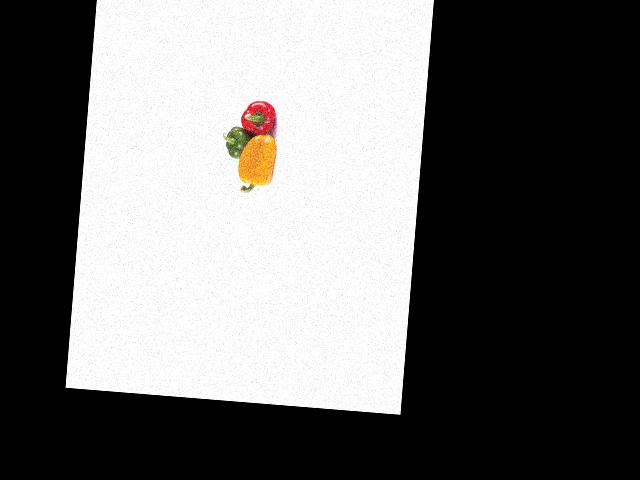bell_pepper: (220, 122, 256, 162)
